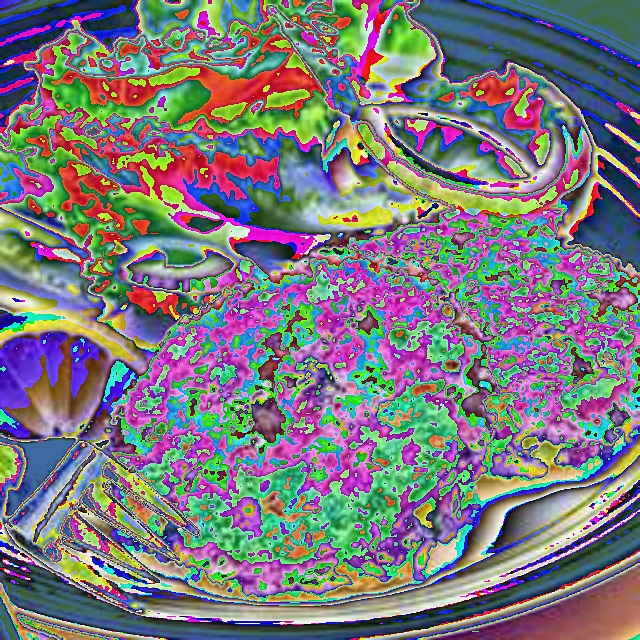background: (0, 0, 640, 603)
